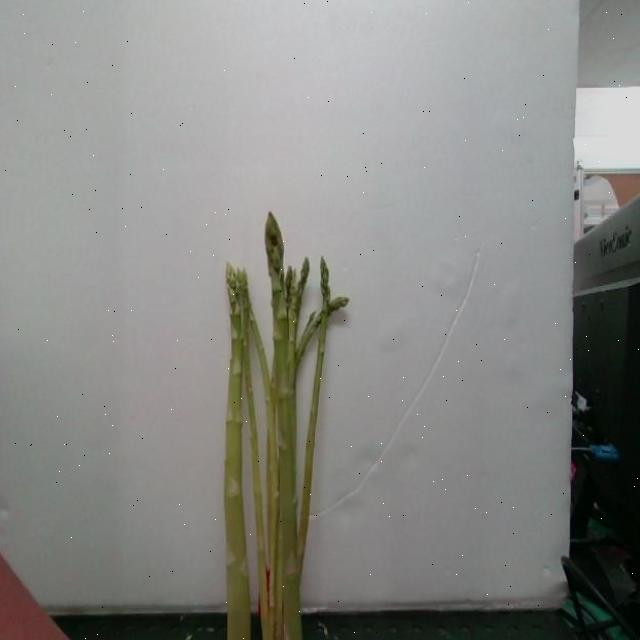aspargus: (264, 208, 311, 640)
